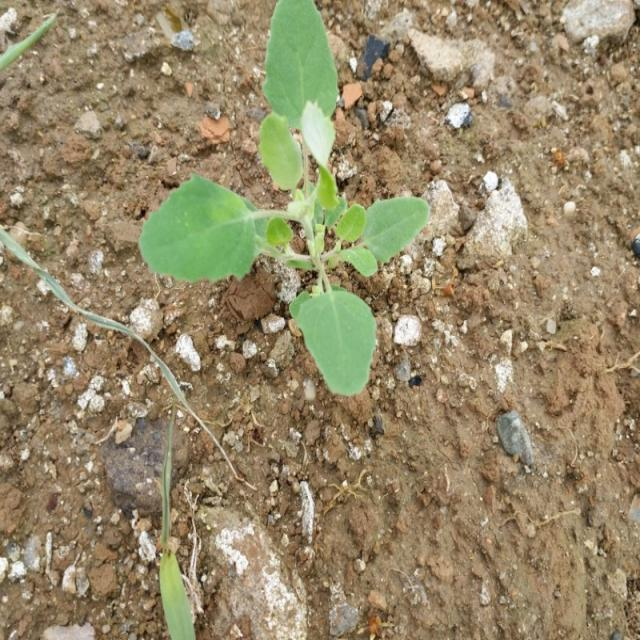ca: (141, 0, 431, 395)
